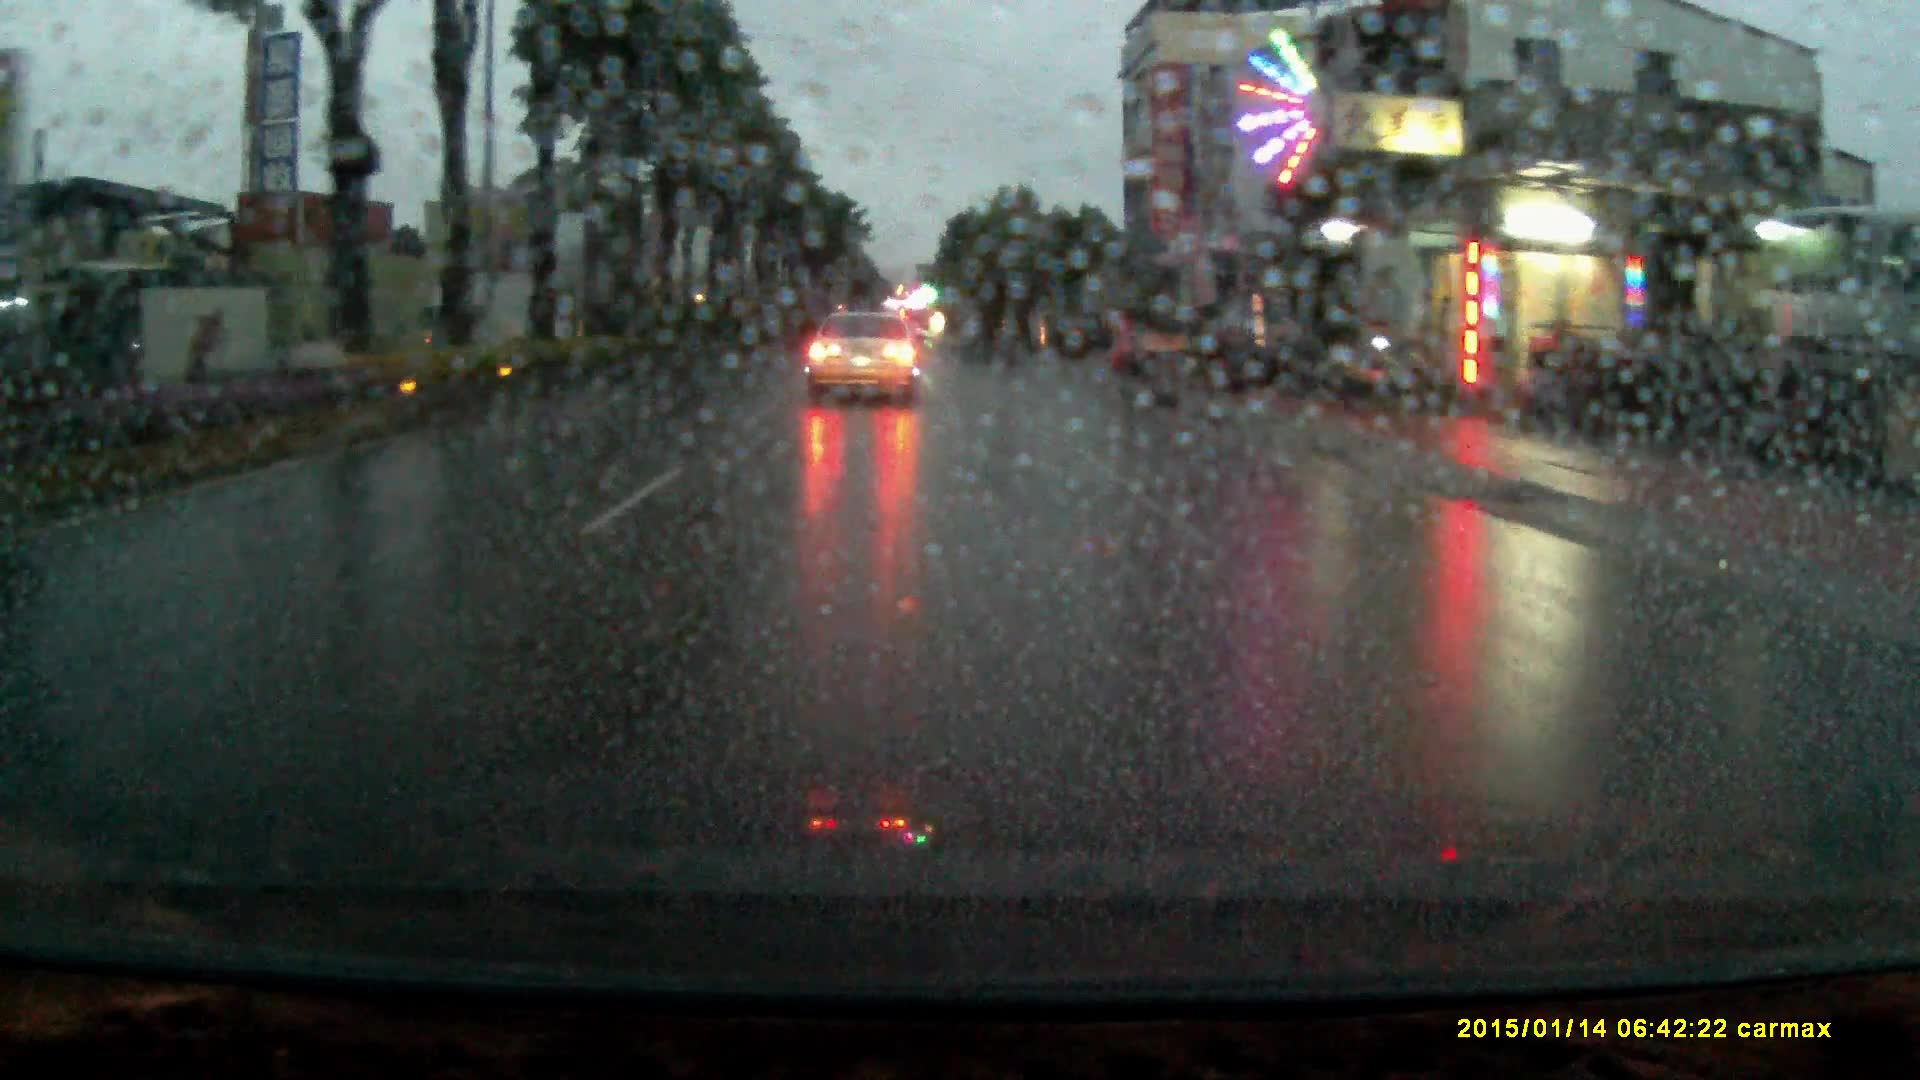vehicle: (806, 306, 918, 411), (426, 262, 541, 348), (1047, 313, 1116, 364)
